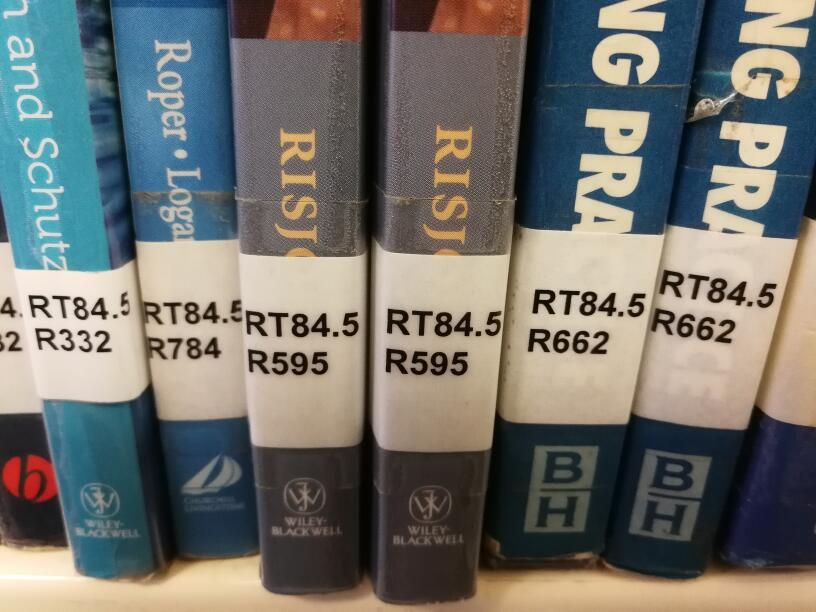booklabel: (650, 264, 780, 347), (524, 285, 648, 356), (381, 305, 501, 377), (241, 308, 359, 379), (26, 288, 132, 356), (138, 297, 244, 361)
